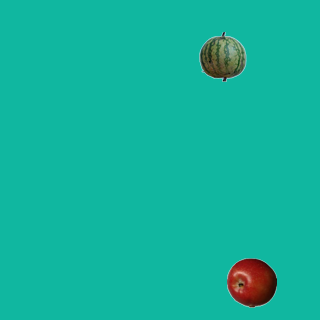Apple Braeburn: (226, 257, 276, 307)
Watermelon: (197, 31, 247, 81)
